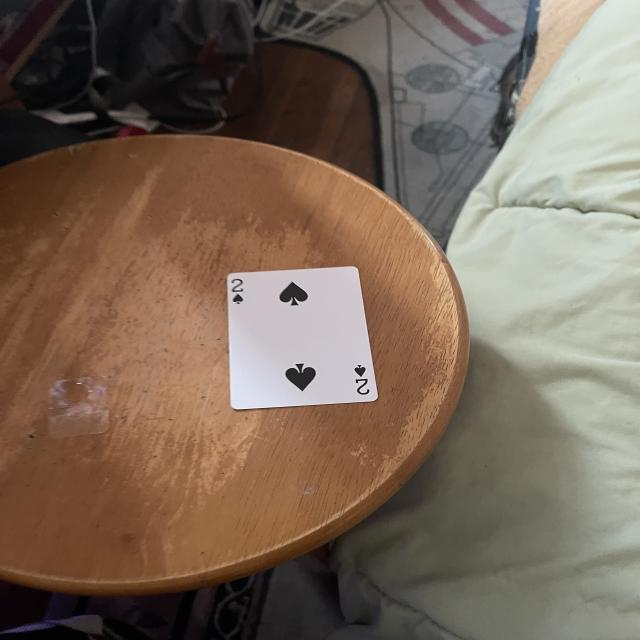2 of spades: (229, 264, 379, 413)
